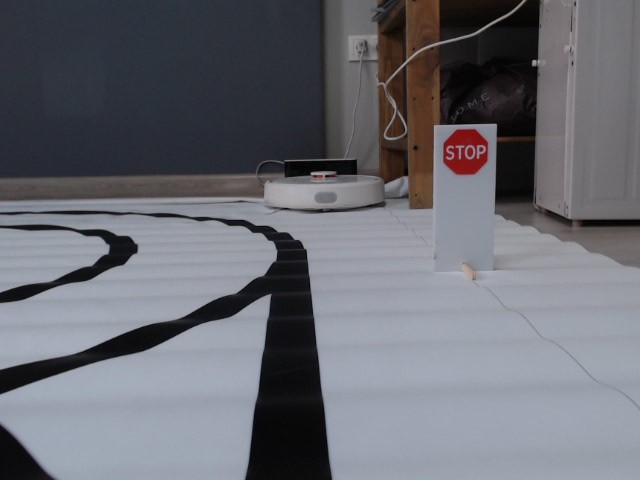Stop: (439, 127, 491, 173)
